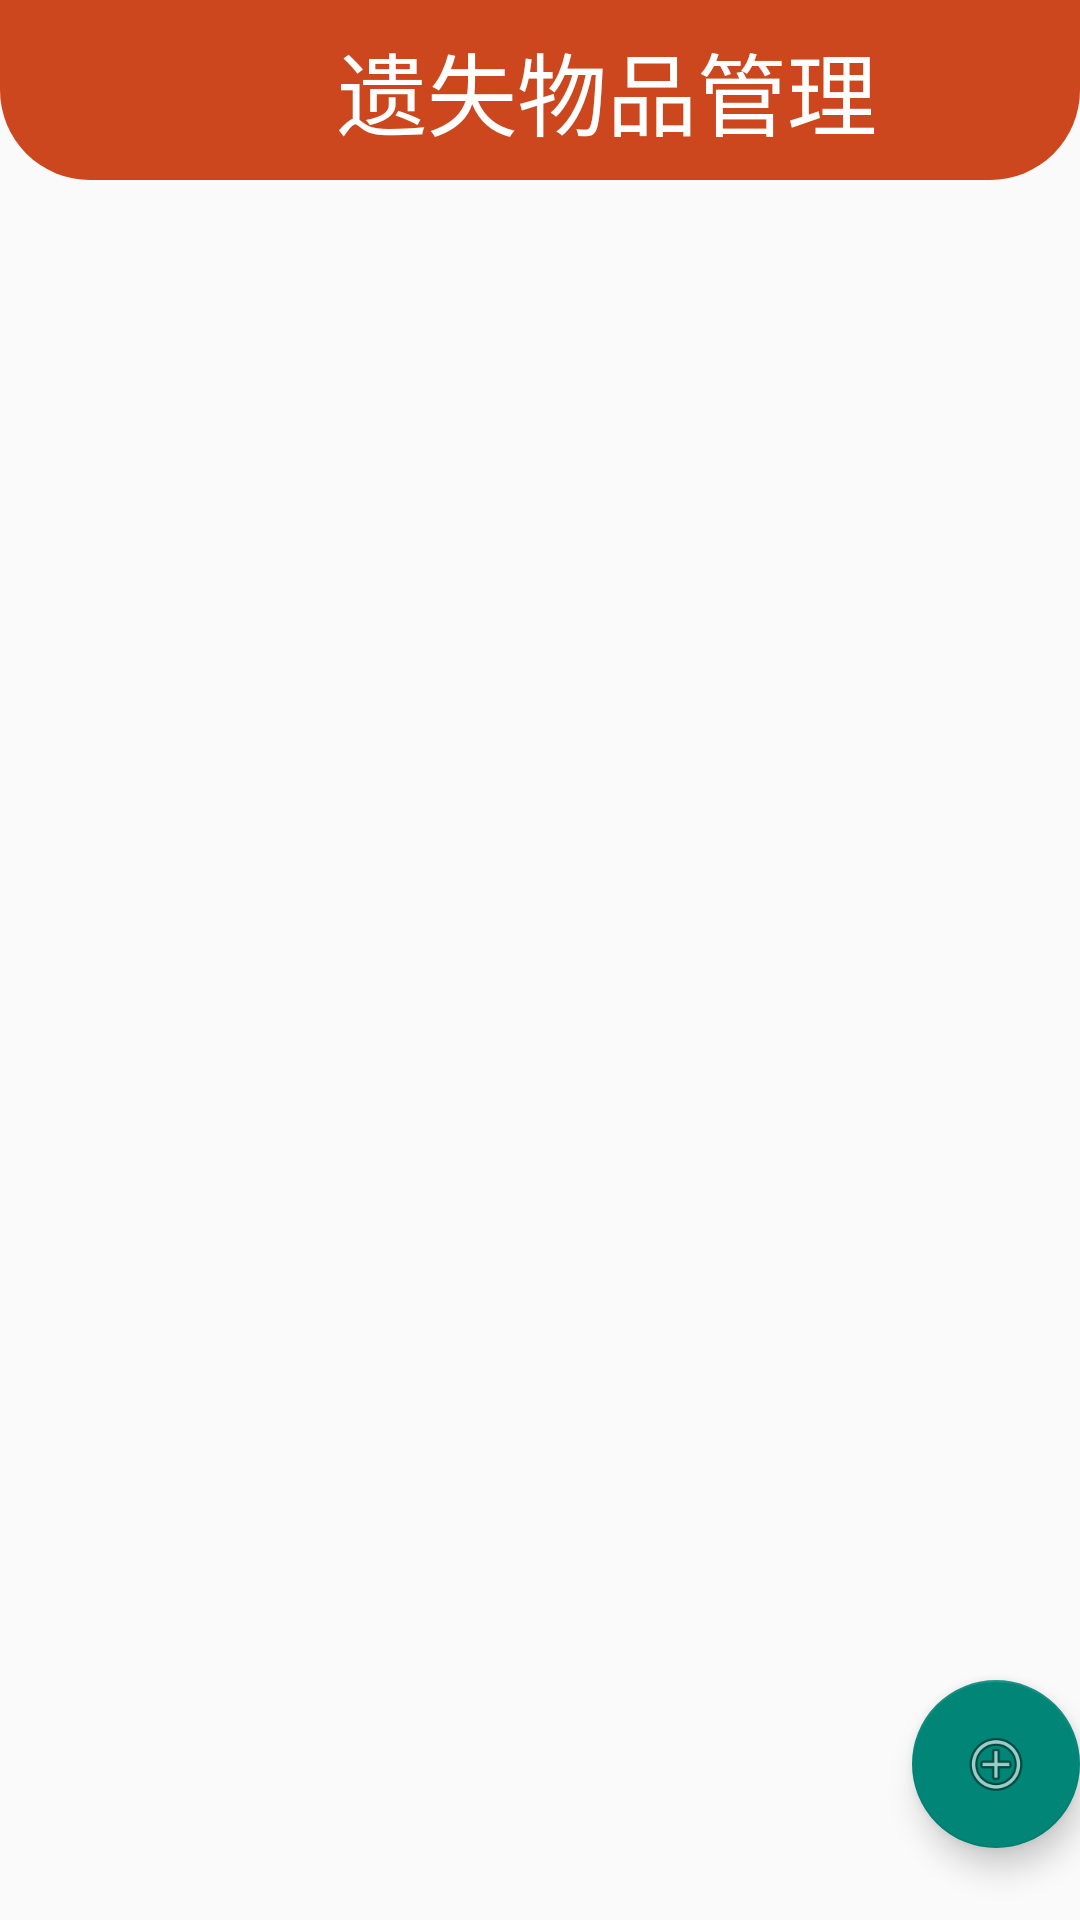

Icons on this 1080*1920 Android screen, each with the point to tap as (x=x, y=y):
add: (x=996, y=1764)
